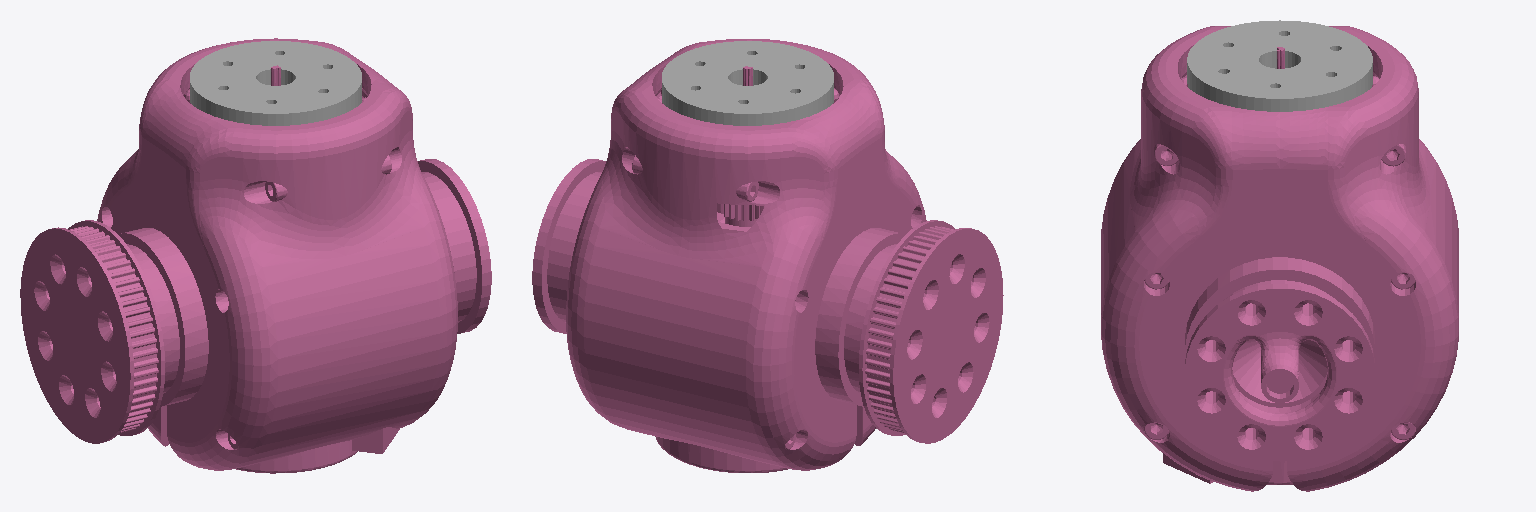
The robot description file, URDF, robot "mantis":
<?xml version="1.0"?>
<robot  name="mantis" >
 <link  name="world" />
 <joint  type="fixed"  name="world_mantis_joint" >
  <origin  xyz="0 0 0"  rpy="0 0 0" />
  <parent  link="world" />
  <child  link="mantis_link_0" />
 </joint>
 <link  name="mantis_link_0" >
  <inertial >
   <origin  xyz="0.0 0.0 0.0"  rpy="0 0 0" />
   <mass  value="5" />
   <inertia  iyz="0"  ixx="0"  iyy="0"  ixy="0"  ixz="0.0"  izz="0" />
  </inertial>
  <visual >
   <origin  xyz="0 0 0" />
   <geometry >
    <mesh  filename="package://mantisrobot/visual/link_0.stl" />
   </geometry>
   <material  name="Grey" />
  </visual>
  <collision >
   <origin  xyz="0 0 0" />
   <geometry >
    <mesh  filename="package://mantisrobot/visual/link_0.stl" />
   </geometry>
   <material  name="Grey" />
  </collision>
 </link>
 <joint  name="mantis_joint_1"  type="revolute" >
  <parent  link="mantis_link_0" />
  <child  link="mantis_link_1" />
  <origin  xyz="0.0 0.0 0.0"  rpy="0 0 0" />
  <axis  xyz="0 0 1" />
  <limit  lower="-3.141592653589793"  effort="300"  upper="3.141592653589793"  velocity="10" />
  <safety_controller  soft_upper_limit="2.9670597283903604"  k_velocity="2"  soft_lower_limit="-2.9670597283903604"  k_position="100" />
  <dynamics  damping="0.5" />
 </joint>
 <link  name="mantis_link_1" >
  <inertial >
   <origin  xyz="0.0 0.0 0.0"  rpy="0 0 0" />
   <mass  value="4" />
   <inertia  iyz="0"  ixx="0"  iyy="0.0"  ixy="1"  ixz="0"  izz="0.02" />
  </inertial>
  <visual >
   <origin  xyz="0 0 0.0" />
   <geometry >
    <mesh  filename="package://mantisrobot/visual/link_1.stl" />
   </geometry>
   <material  name="Orange" />
  </visual>
  <collision >
   <origin  xyz="0 0 0.0" />
   <geometry >
    <mesh  filename="package://mantisrobot/visual/link_1.stl" />
   </geometry>
   <material  name="Orange" />
  </collision>
 </link>
 <joint  name="mantis_joint_2"  type="revolute" >
  <parent  link="mantis_link_1" />
  <child  link="mantis_link_2" />
  <origin  xyz="0.0 0.0 0.297"  rpy="0 0 0" />
  <axis  xyz="1 0 0" />
  <limit  lower="-2.0943951023931953"  effort="300"  upper="2.0943951023931953"  velocity="10" />
  <safety_controller  soft_upper_limit="1.7453292519943295"  k_velocity="2"  soft_lower_limit="-1.7453292519943295"  k_position="100" />
  <dynamics  damping="0.5" />
 </joint>
 <link  name="mantis_link_2" >
  <inertial >
   <origin  xyz="0 0.0 0.0"  rpy="0 0 0" />
   <mass  value="4" />
   <inertia  iyz="0"  ixx="0.0"  iyy="0.0"  ixy="0"  ixz="0.0"  izz="0.0" />
  </inertial>
  <visual >
   <origin  xyz="0 0 0" />
   <geometry >
    <mesh  filename="package://mantisrobot/visual/link_2.stl" />
   </geometry>
   <material  name="Orange" />
  </visual>
  <collision >
   <origin  xyz="0 0 0" />
   <geometry >
    <mesh  filename="package://mantisrobot/visual/link_2.stl" />
   </geometry>
   <material  name="Orange" />
  </collision>
 </link>
 <joint  name="mantis_joint_3"  type="revolute" >
  <parent  link="mantis_link_2" />
  <child  link="mantis_link_3" />
  <origin  xyz="0.0 0.0 0.225"  rpy="0 0 0" />
  <axis  xyz="1 0 0" />
  <limit  lower="-2.2689280275926285"  effort="300"  upper="2.2689280275926285"  velocity="10" />
  <safety_controller  soft_upper_limit="2.0943951023931953"  k_velocity="2"  soft_lower_limit="-2.0943951023931953"  k_position="100" />
  <dynamics  damping="0.5" />
 </joint>
 <link  name="mantis_link_3" >
  <inertial >
   <origin  xyz="0.0 0.0 0.0"  rpy="0 0 0" />
   <mass  value="3" />
   <inertia  iyz="0"  ixx="0.0"  iyy="0.0"  ixy="0"  ixz="0"  izz="0.0" />
  </inertial>
  <visual >
   <origin  xyz="0 0.0 0" />
   <geometry >
    <mesh  filename="package://mantisrobot/visual/link_3.stl" />
   </geometry>
   <material  name="Orange" />
  </visual>
  <collision >
   <origin  xyz="0 0.0 0" />
   <geometry >
    <mesh  filename="package://mantisrobot/visual/link_3.stl" />
   </geometry>
   <material  name="Orange" />
  </collision>
 </link>
 <joint  name="mantis_joint_4"  type="revolute" >
  <parent  link="mantis_link_3" />
  <child  link="mantis_link_4" />
  <origin  xyz="0.0 0.0 0.0"  rpy="0 0 0" />
  <axis  xyz="0 0 1" />
  <limit  lower="-12.566370614359172"  effort="300"  upper="12.566370614359172"  velocity="10" />
  <safety_controller  soft_upper_limit="12.566370614359172"  k_velocity="2"  soft_lower_limit="-12.566370614359172"  k_position="100" />
  <dynamics  damping="0.5" />
 </joint>
 <link  name="mantis_link_4" >
  <inertial >
   <origin  xyz="0.0 0.0 0.0"  rpy="0 0 0" />
   <mass  value="2.7" />
   <inertia  iyz="0"  ixx="0.03"  iyy="0.0"  ixy="0"  ixz="0"  izz="0.0" />
  </inertial>
  <visual >
   <origin  xyz="0 0 0" />
   <geometry >
    <mesh  filename="package://mantisrobot/visual/link_4.stl" />
   </geometry>
   <material  name="Orange" />
  </visual>
  <collision >
   <origin  xyz="0 0 0" />
   <geometry >
    <mesh  filename="package://mantisrobot/visual/link_4.stl" />
   </geometry>
   <material  name="Orange" />
  </collision>
 </link>
 <joint  name="mantis_joint_5"  type="revolute" >
  <parent  link="mantis_link_4" />
  <child  link="mantis_link_5" />
  <origin  xyz="0.0 0.0 0.228855"  rpy="0 0 0" />
  <axis  xyz="1 0 0" />
  <limit  lower="-2.2689280275926285"  effort="300"  upper="2.2689280275926285"  velocity="10" />
  <safety_controller  soft_upper_limit="2.0943951023931953"  k_velocity="2"  soft_lower_limit="-2.0943951023931953"  k_position="100" />
  <dynamics  damping="0.5" />
 </joint>
 <link  name="mantis_link_5" >
  <inertial >
   <origin  xyz="0.0 0.0 0.0"  rpy="0 0 0" />
   <mass  value="1.7" />
   <inertia  iyz="0"  ixx="0.0"  iyy="0.0"  ixy="0"  ixz="0"  izz="0.0" />
  </inertial>
  <visual >
   <origin  xyz="0 0 0" />
   <geometry >
    <mesh  filename="package://mantisrobot/visual/link_5.stl" />
   </geometry>
   <material  name="Orange" />
  </visual>
  <collision >
   <origin  xyz="0 0 0" />
   <geometry >
    <mesh  filename="package://mantisrobot/visual/link_5.stl" />
   </geometry>
   <material  name="Orange" />
  </collision>
 </link>
 <joint  name="mantis_joint_6"  type="revolute" >
  <parent  link="mantis_link_5" />
  <child  link="mantis_link_6" />
  <origin  xyz="0.0 0.0 0.047"  rpy="0 0 0" />
  <axis  xyz="0 0 1" />
  <limit  lower="-12.566370614359172"  effort="300"  upper="12.566370614359172"  velocity="10" />
  <safety_controller  soft_upper_limit="12.566370614359172"  k_velocity="2"  soft_lower_limit="-12.566370614359172"  k_position="100" />
  <dynamics  damping="0.5" />
 </joint>
 <link  name="mantis_link_6" >
  <inertial >
   <origin  xyz="0.0 0.0 0.0"  rpy="0 0 0" />
   <mass  value="1.8" />
   <inertia  iyz="0"  ixx="0.0"  iyy="0.0"  ixy="0"  ixz="0"  izz="0.0" />
  </inertial>
  <visual >
   <origin  xyz="0 0 0" />
   <geometry >
    <mesh  filename="package://mantisrobot/visual/link_6.stl" />
   </geometry>
   <material  name="Orange" />
  </visual>
  <collision >
   <origin  xyz="0 0 0" />
   <geometry >
    <mesh  filename="package://mantisrobot/visual/link_6.stl" />
   </geometry>
   <material  name="Orange" />
  </collision>
 </link>
 <joint  type="fixed"  name="tool0_joint" >
  <parent  link="mantis_link_6" />
  <child  link="mantis_link_ee" />
  <origin  xyz="0 0 0.04"  rpy="0 -1.5707963267948966 0" />
 </joint>
 <link  name="mantis_link_ee" />
</robot>

--- Render facts (derived) ---
The picture shows the robot from 3 angles, left to right: view 1: azimuth 30°, elevation 25°; view 2: azimuth 150°, elevation 25°; view 3: azimuth 270°, elevation 25°; orthographic projection.
Robot: mantis — 9 links, 8 joints (6 revolute, 2 fixed); root link world; default pose: every joint at zero.
Visible links, largest first — view 1: mantis_link_5, mantis_link_6; view 2: mantis_link_5, mantis_link_6; view 3: mantis_link_5, mantis_link_6.
Link boxes in pixels (x1,y1,x2,y2): mantis_link_5: (20, 38, 491, 473); mantis_link_6: (190, 41, 361, 125); mantis_link_5: (532, 39, 1003, 472); mantis_link_6: (662, 41, 833, 125); mantis_link_5: (1101, 26, 1458, 491); mantis_link_6: (1187, 20, 1372, 111).
Bounding box of the posed robot: 0.1019 × 0.0749 × 0.0913 m (x, y, z).
Meshes: 7 distinct files referenced, 2 mesh visuals loaded (2 binary STL); not drawn: 5 (reference not matched to a file when rendering).